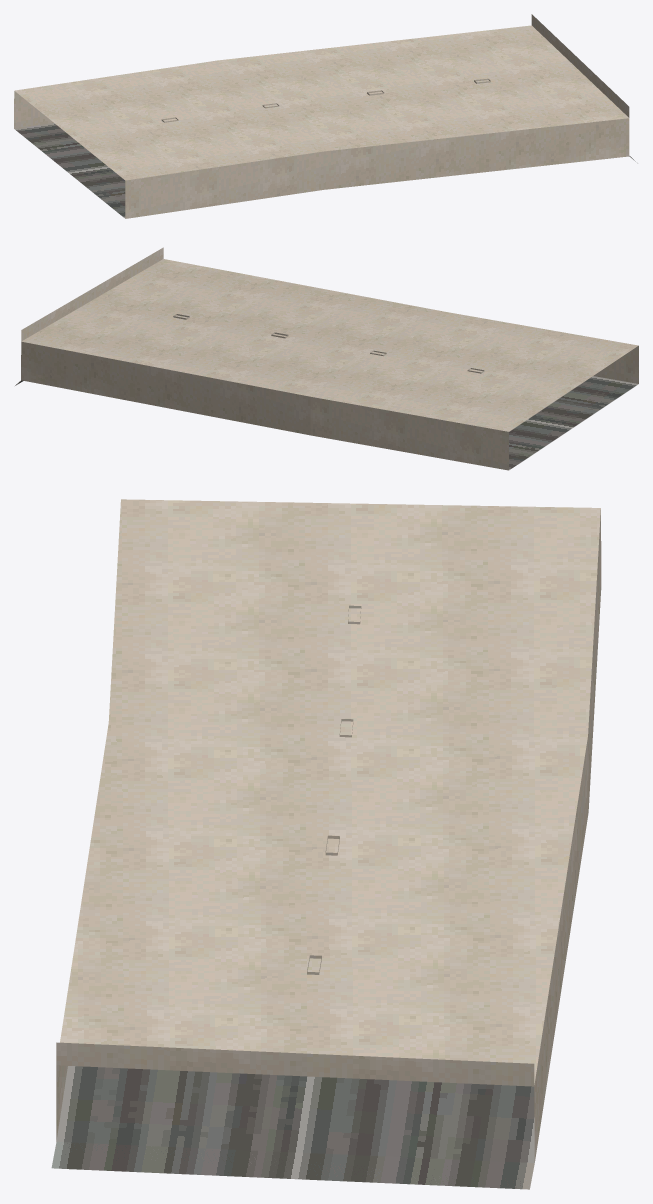
Rendered from lodgolftunnel4_sfs.obj.
3 views of the same model, one above another, from view 1: azimuth 30°, elevation 25°; view 2: azimuth 150°, elevation 25°; view 3: azimuth 270°, elevation 25° (orthographic). The views are drawn at different scales.
Parts seen in each view (by area): view 1: LODgolftunnel4_SFS; view 2: LODgolftunnel4_SFS; view 3: LODgolftunnel4_SFS.
Boxes of the visible parts, x1=… form: LODgolftunnel4_SFS: x1=14, y1=14, x2=637, y2=218; LODgolftunnel4_SFS: x1=15, y1=247, x2=638, y2=470; LODgolftunnel4_SFS: x1=51, y1=499, x2=601, y2=1189.
Size of the model in its own units: 67.62 by 11.52 by 31.09.
Materials: 2 (2 with a texture image).
